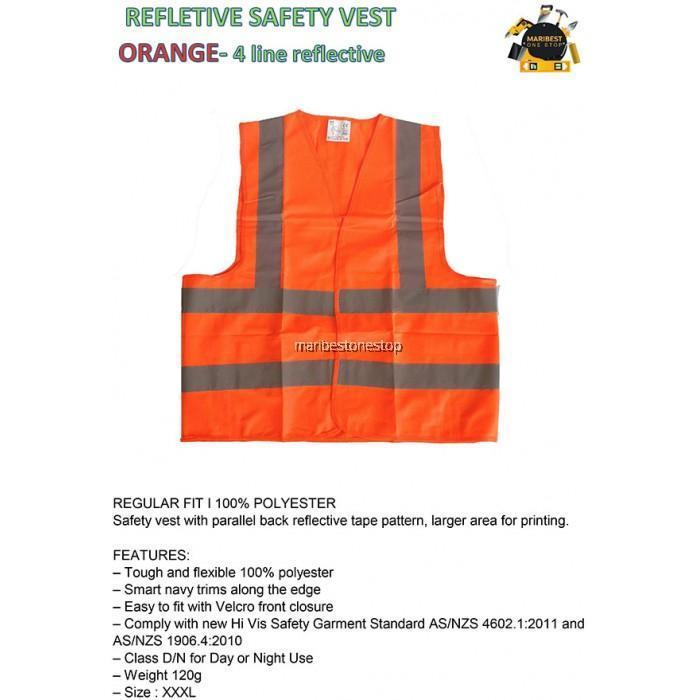vest: (179, 109, 501, 446)
